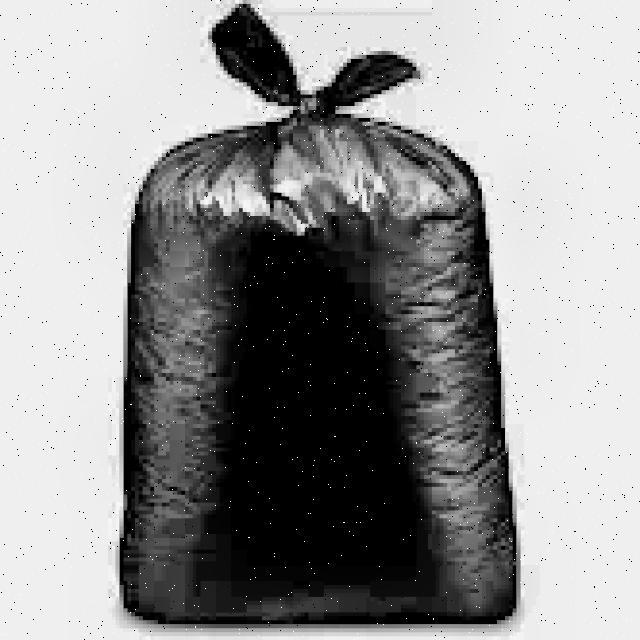Trashbag: (111, 0, 531, 630)
